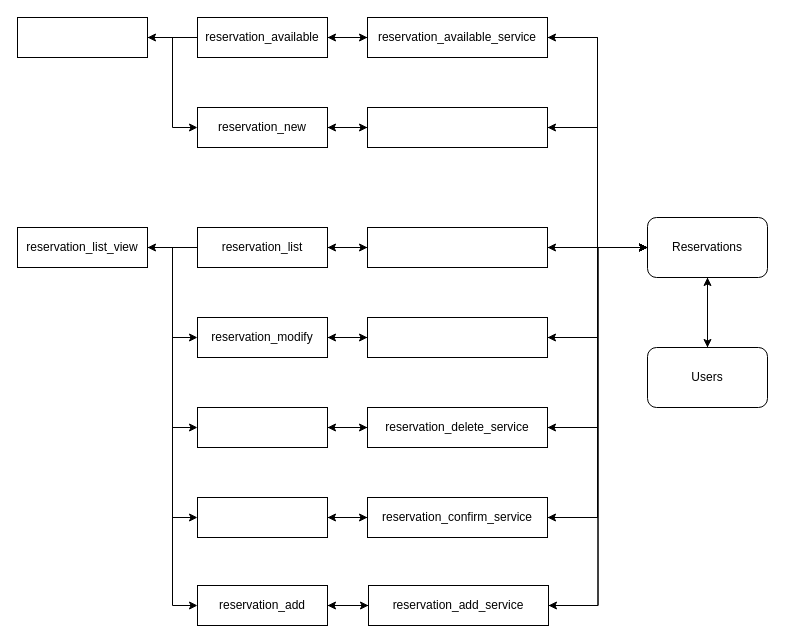
The diagram is 785 pixels wide and 643 high, and some of its shapes have lost their labels. The centre of each missing label's shape, as x and y in pixels:
"reservation_confirm" belongs at (262,517).
"reservation_delete" belongs at (262,427).
"reservation_list_service" belongs at (457,247).
"reservation_modify_service" belongs at (457,337).
"reservation_new_service" belongs at (457,127).
"reservation_new_view" belongs at (82,37).
